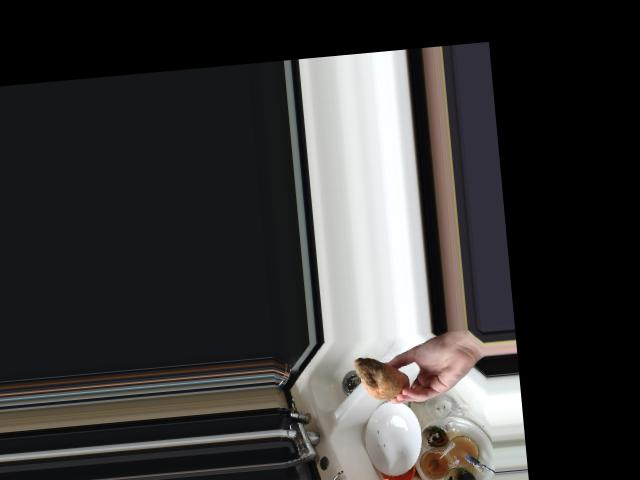sweet_potato: (352, 349, 410, 404)
